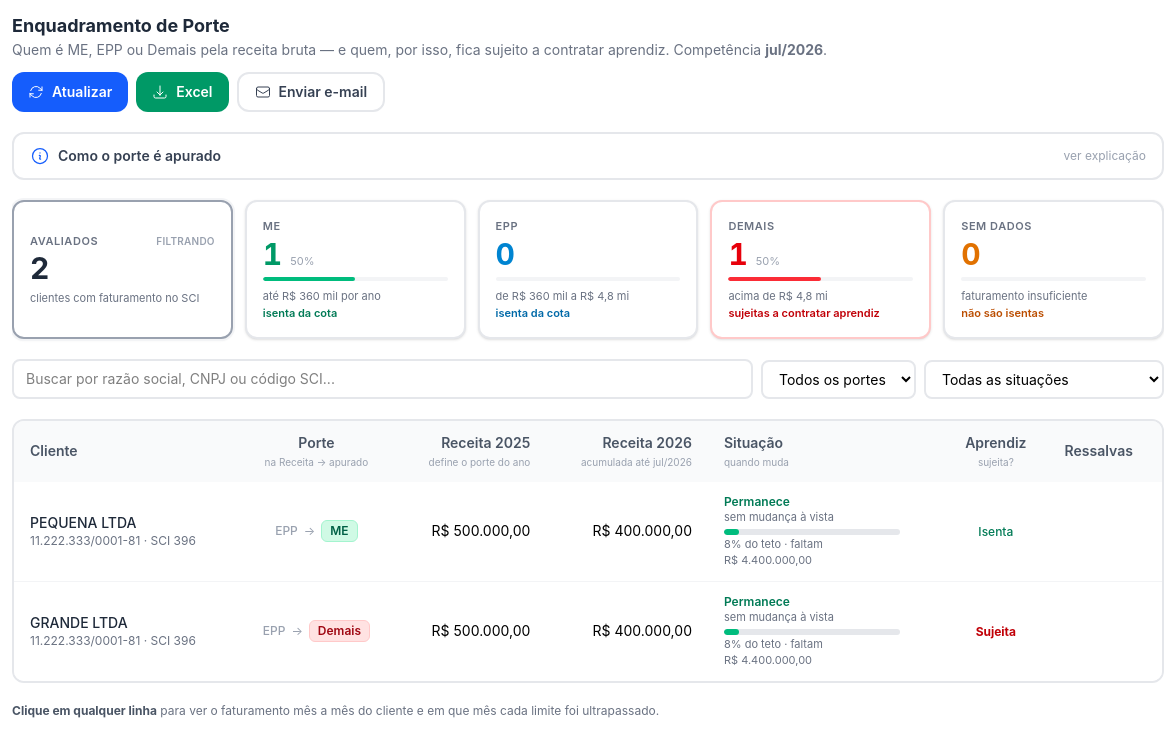
CotaAprendizagemTab › clicar no cartão filtra a tabela para aquele porte, e clicar de novo desfaz
Expected: the text "PEQUENA LTDA" is shown, [30,514,136,531]
What coordinates should you click on to do the following:
click the button "sujeitas a contratar aprendiz"
I would click on:
 (821, 270)
Its box is [710,200,931,339].
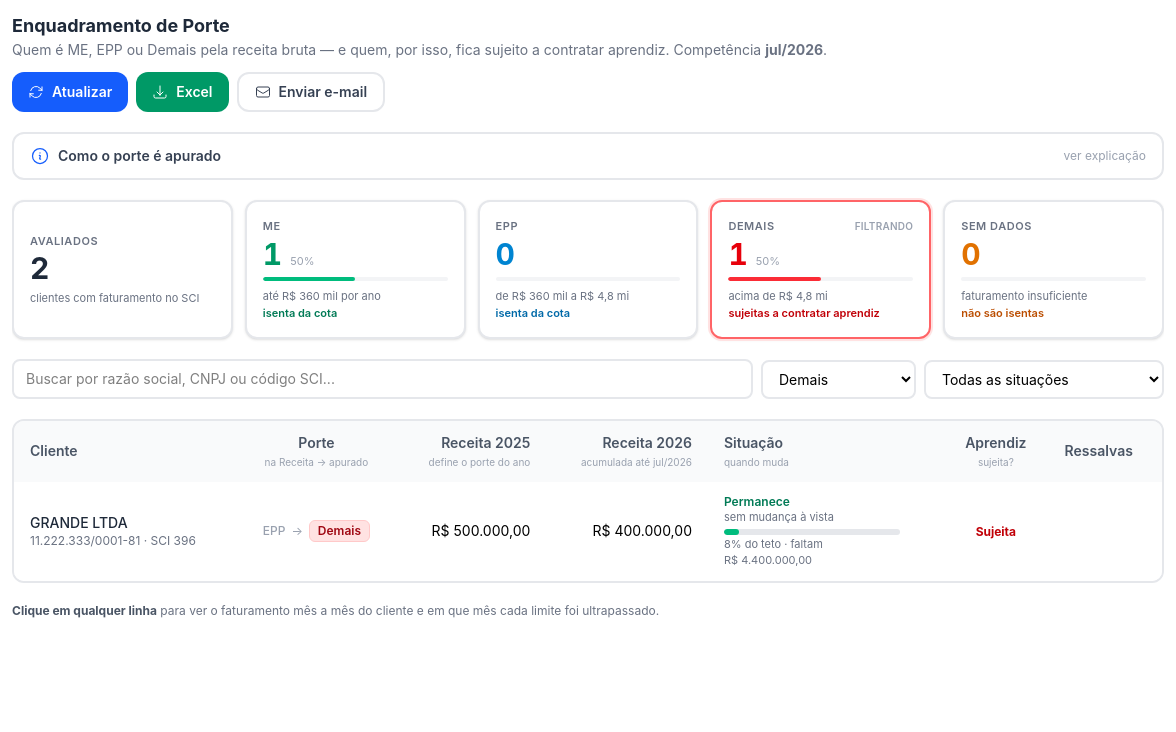
Expected: the text "GRANDE LTDA" is shown, [30,514,128,531]
Result: the text "PEQUENA LTDA" is gone
What coordinates should you click on to do the following:
click the button "sujeitas a contratar aprendiz"
I would click on:
 (821, 270)
Its box is [710,200,931,339].
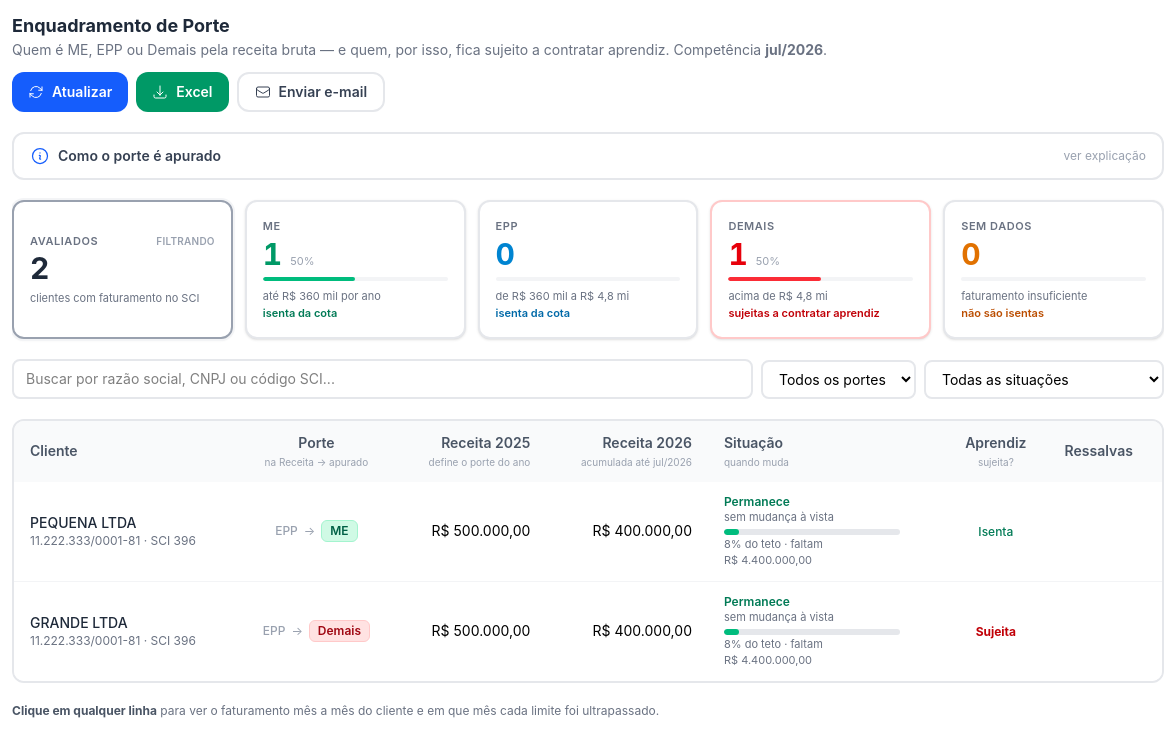
Expected: the text "GRANDE LTDA" is shown, [30,614,128,631]
Result: the text "PEQUENA LTDA" is shown at [30,514,136,531]
